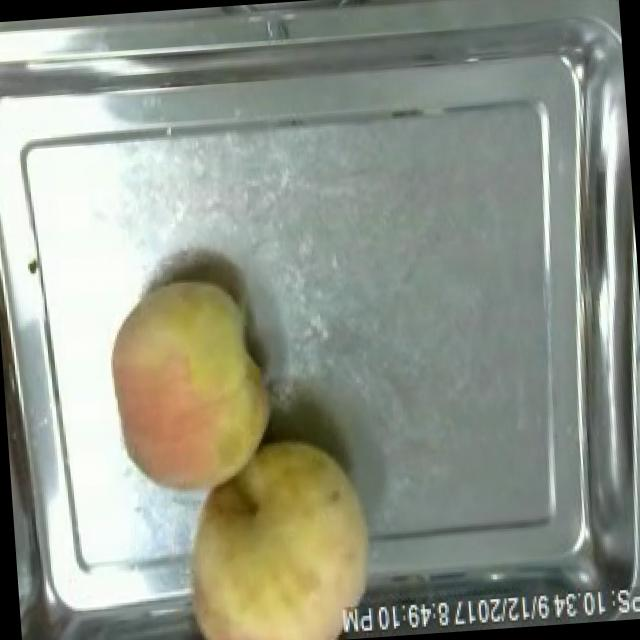Fruit: (166, 423, 388, 640), (93, 269, 286, 509)
